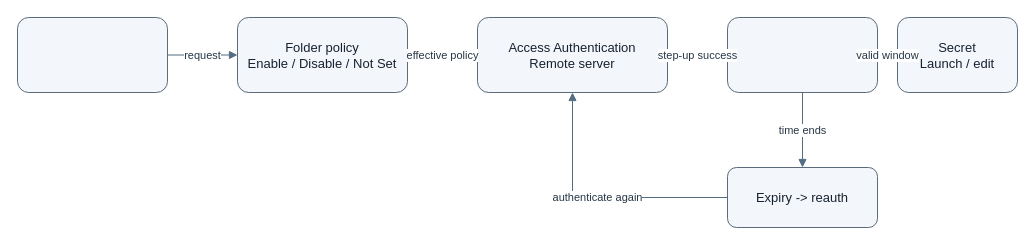
This 1035x245 diagram has some shape labels left out. The box of each missing label's shape, as (x1, y1, x2, y2) in pixels:
Privileged user Open secret: (16, 16, 168, 92)
Timed access 0–180 min: (726, 16, 878, 92)
